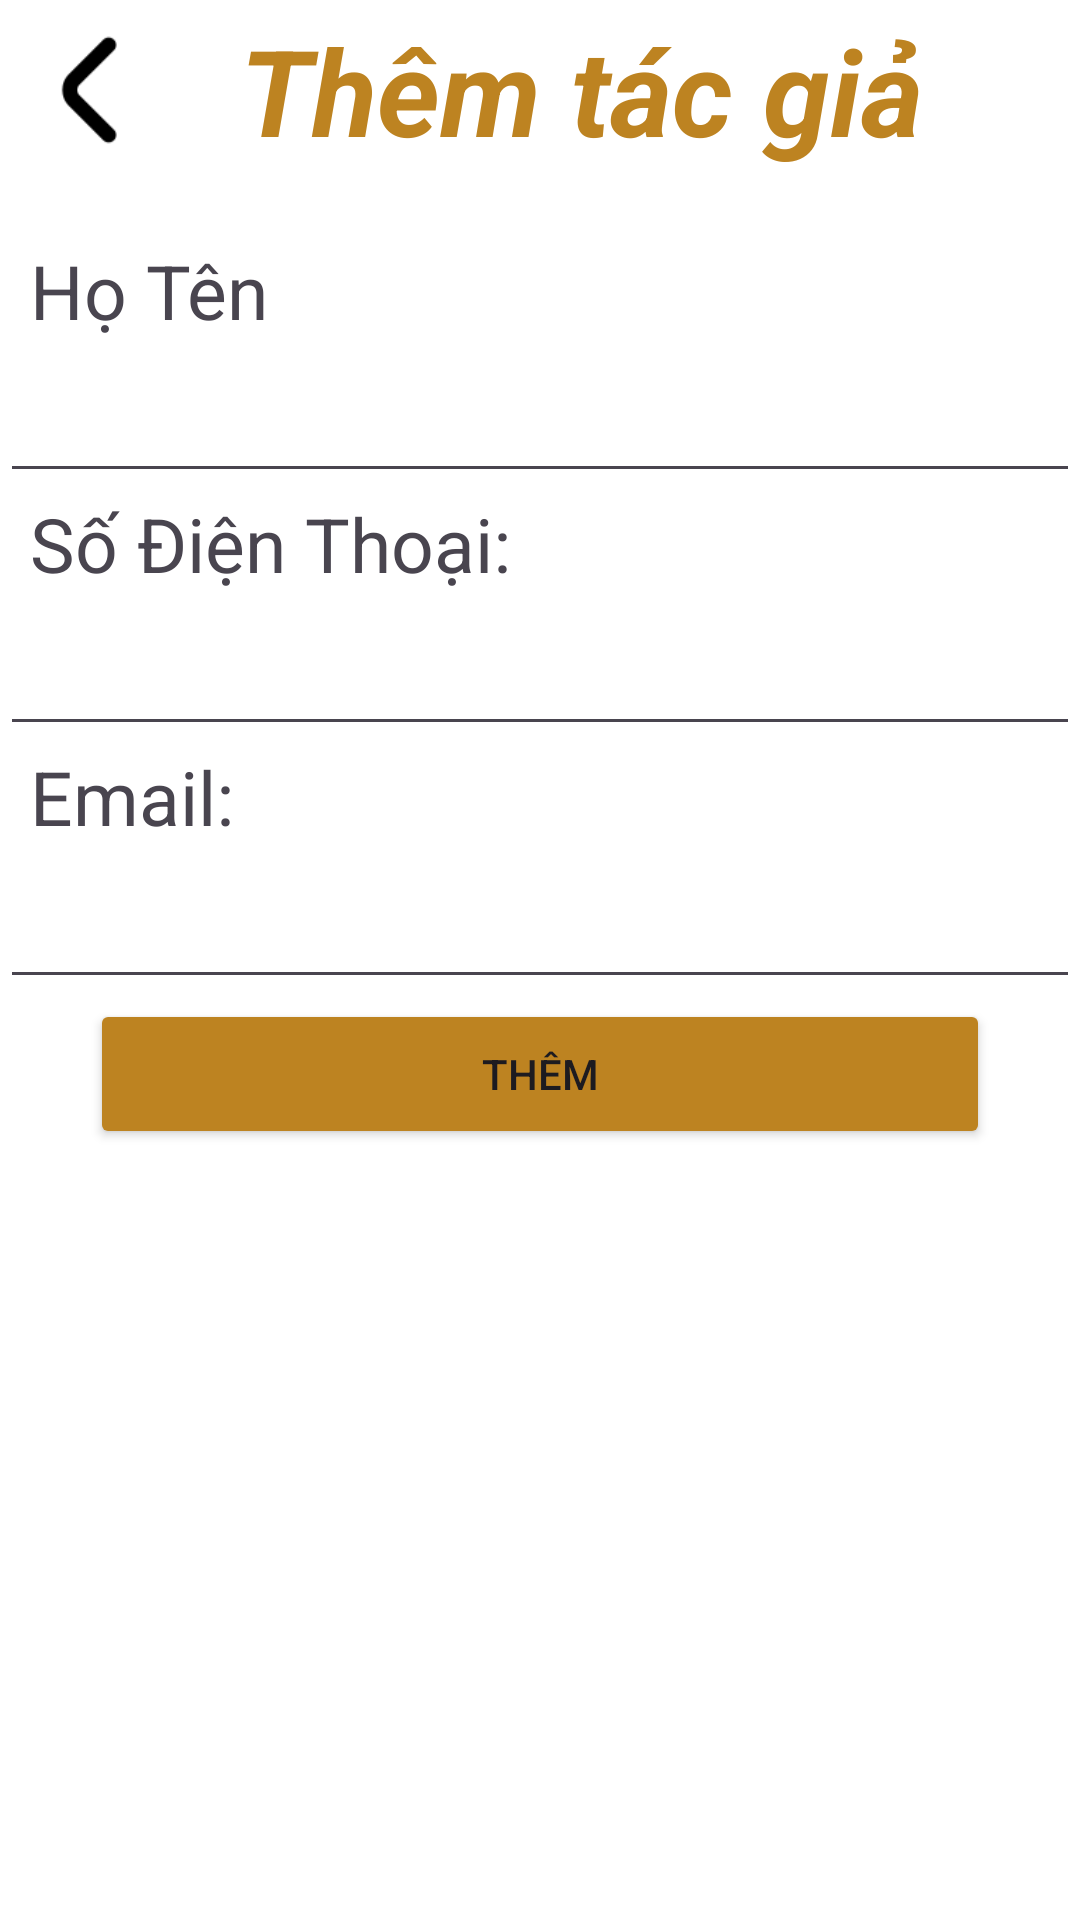

Icons on this 1080 × 1920 Android screen, each with its box as (x1, y1, x2, y2):
angle left: (61, 36, 117, 144)
